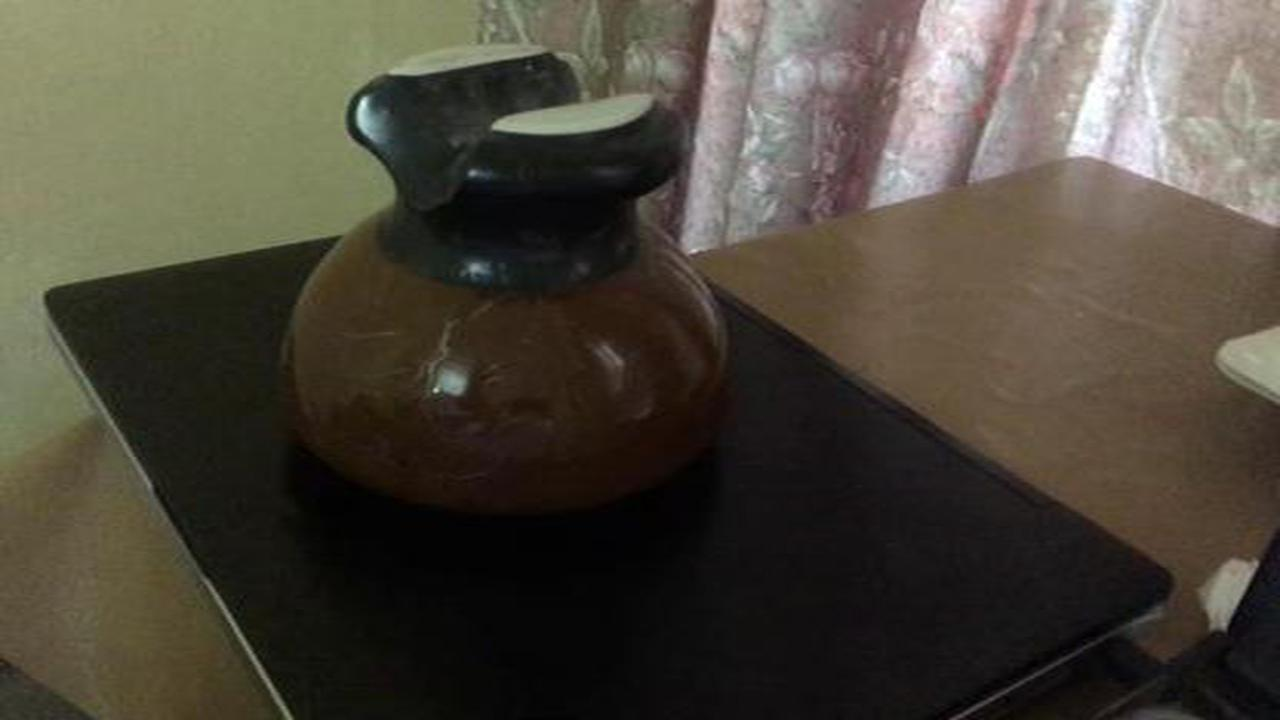insulator_pin: (268, 30, 754, 530)
